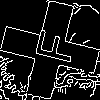F: (25, 25, 77, 66)
